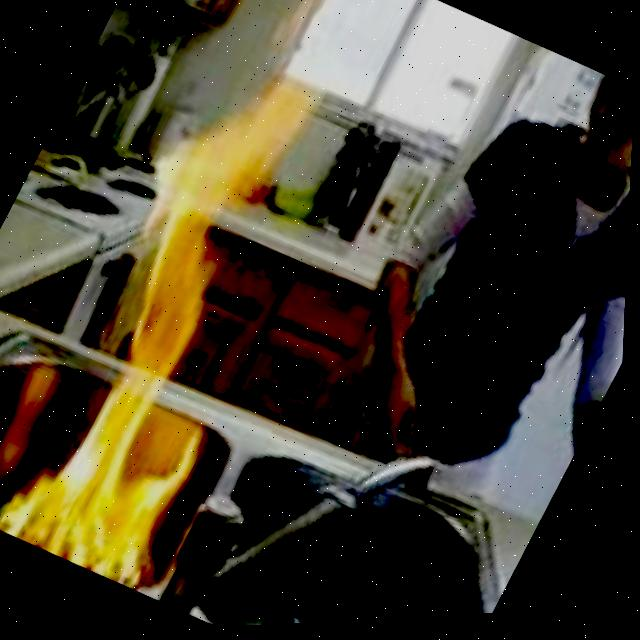Fire: (0, 22, 395, 599)
